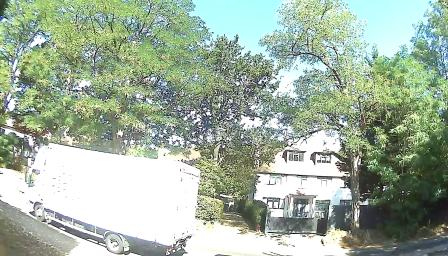Cars: (24, 140, 194, 251)
